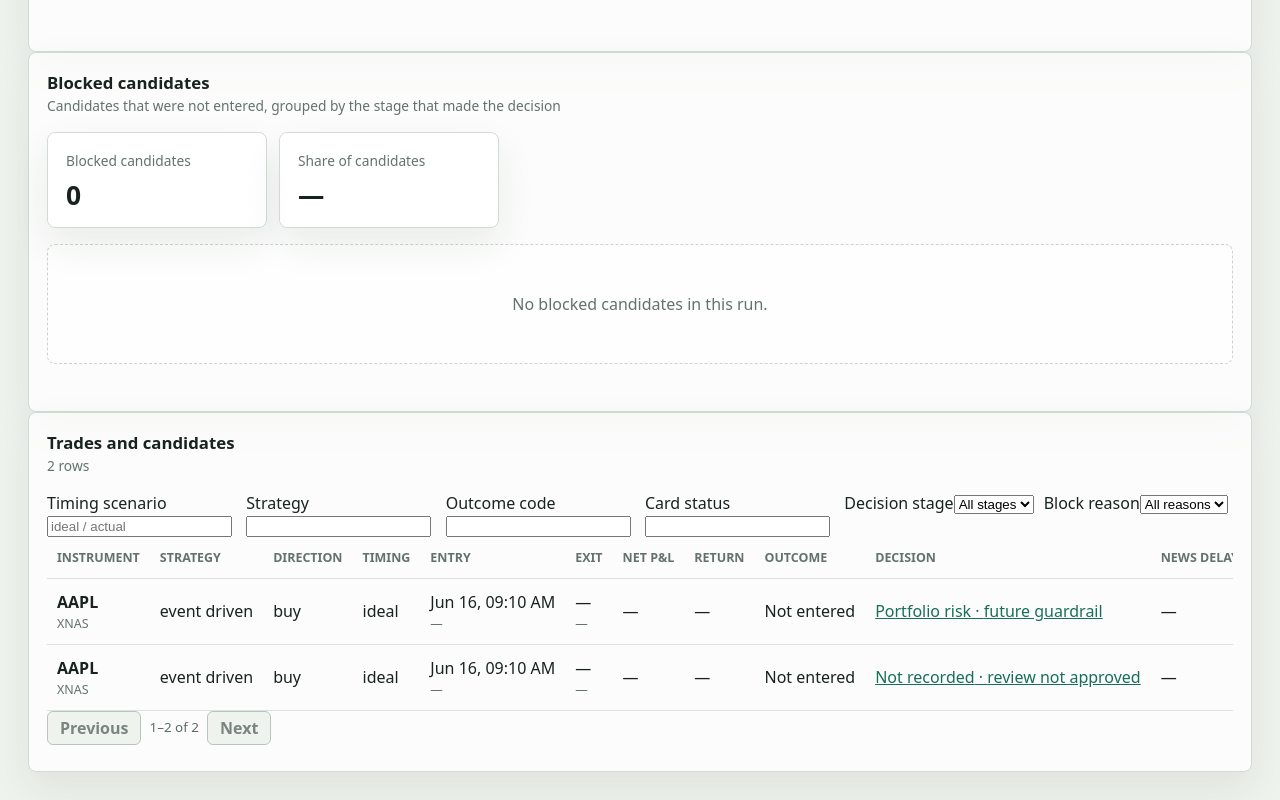
BacktesterTab › uses explicit fallbacks for unknown future decisions and legacy rows
(page scrolled)
Click the button "Portfolio risk · future guardrail": point(989, 611) [875,600,1103,622]
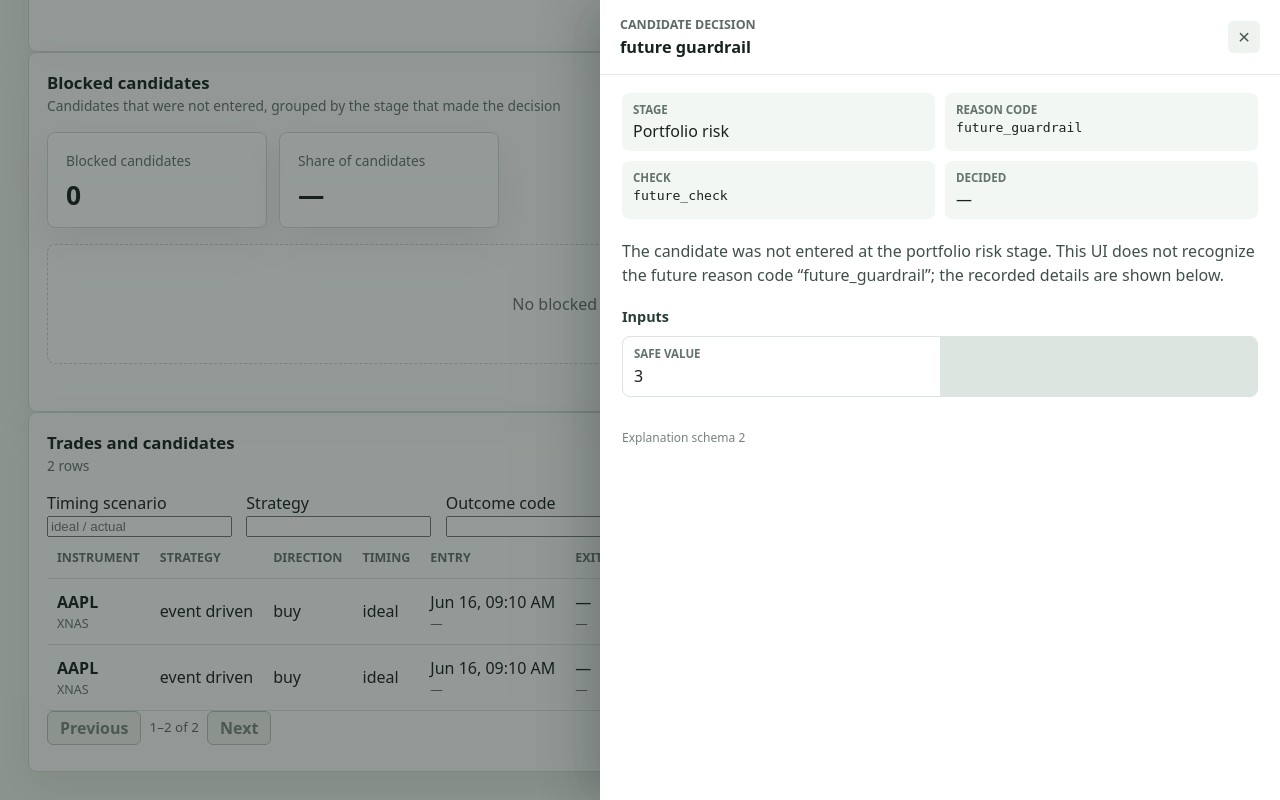
Expected: the dialog shows "does not recognize the future reason code", [622,240,1255,286]
Click the button named "Close candidate explanation": point(1244, 37) [1228,21,1260,53]
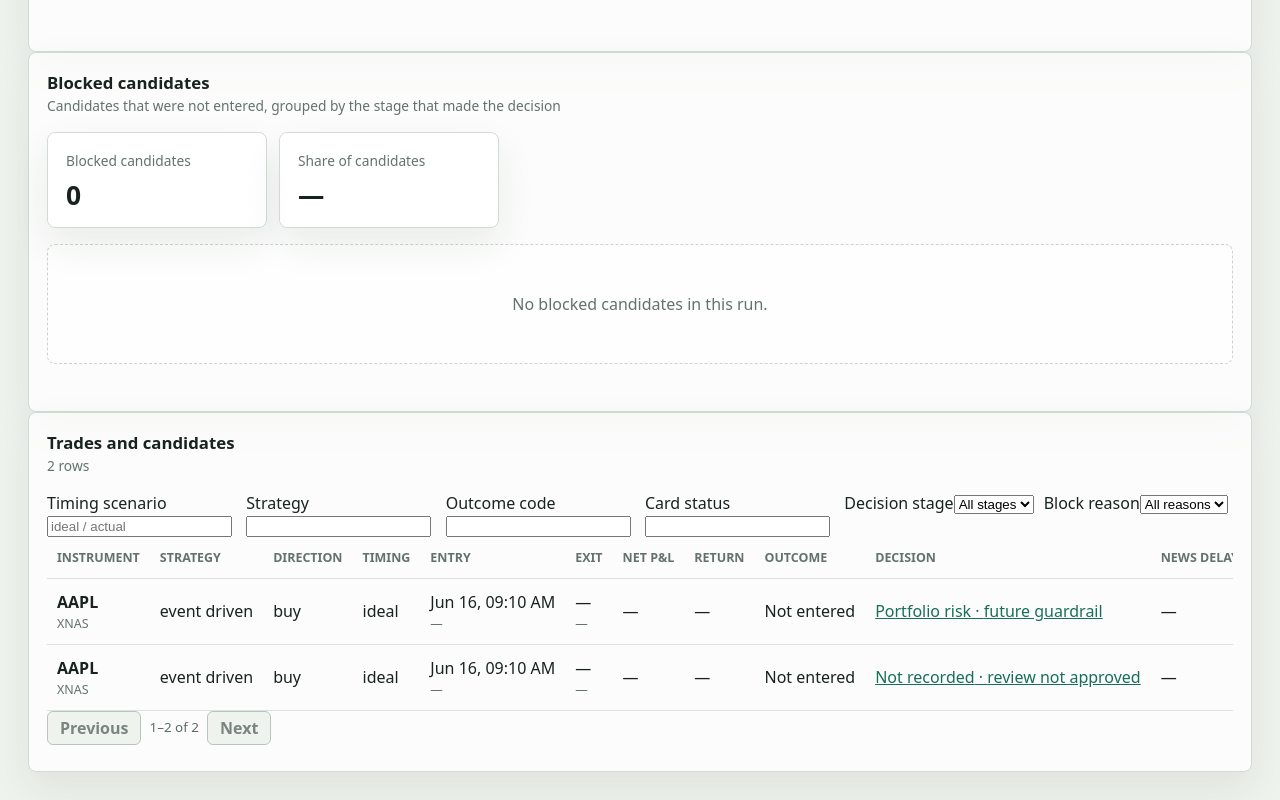
Click the button "Not recorded · review not approved": point(1008, 677) [875,666,1141,688]
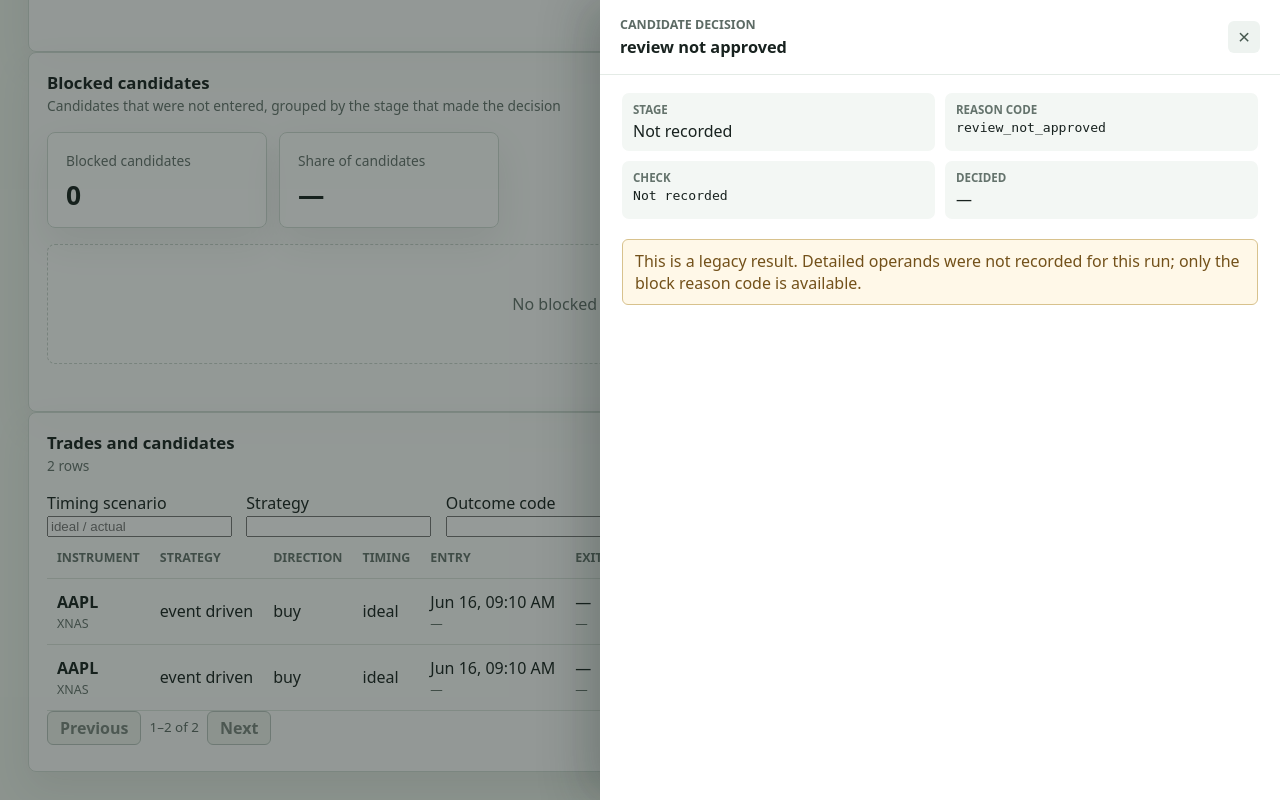
Expected: the dialog shows "Detailed operands were not recorded for this run", [635,250,1240,294]
